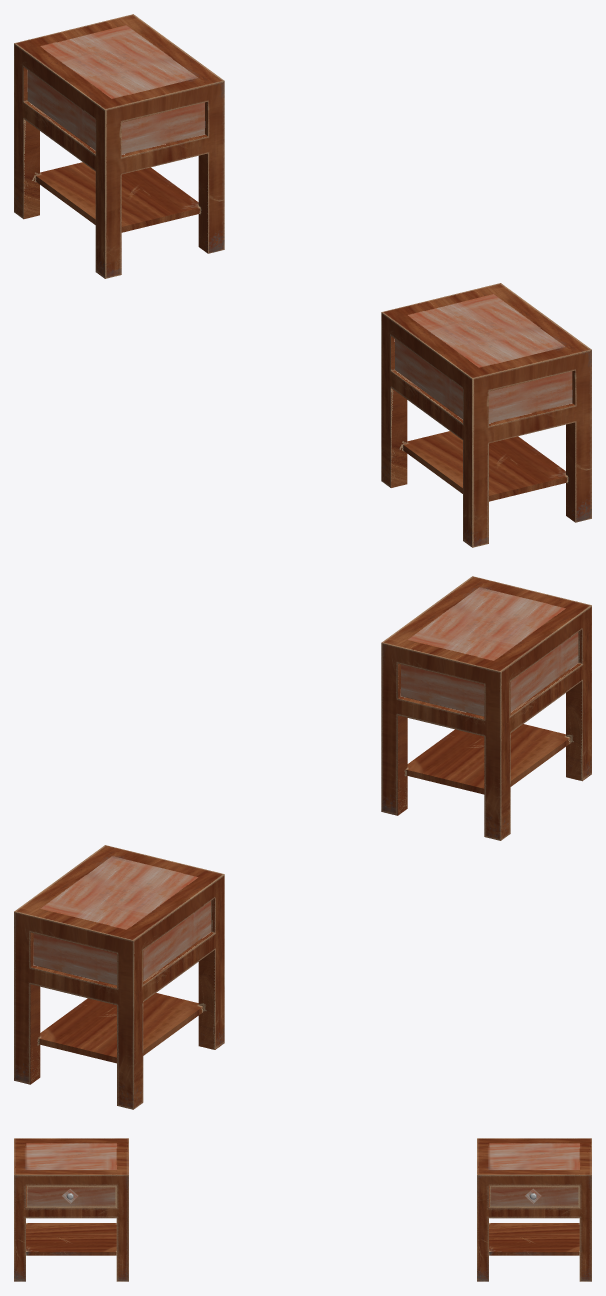
Rendered from besidetable.glb.
The picture shows the model from 3 angles, top to bottom: view 1: azimuth 30°, elevation 25°; view 2: azimuth 150°, elevation 25°; view 3: azimuth 270°, elevation 25°; orthographic projection. The views are drawn at different scales.
Parts seen in each view (by area): view 1: BedsideEndtable.001, BedsideEndtable; view 2: BedsideEndtable.001, BedsideEndtable; view 3: BedsideEndtable, BedsideEndtable.001, BedTableDrawer, BedTableDrawer.001.
Boxes of the visible parts, <box> form: BedsideEndtable.001: <box>14,14,224,278</box>; BedsideEndtable: <box>381,283,591,547</box>; BedsideEndtable.001: <box>14,845,224,1109</box>; BedsideEndtable: <box>381,576,591,840</box>; BedsideEndtable: <box>14,1138,128,1281</box>; BedsideEndtable.001: <box>477,1138,591,1281</box>; BedTableDrawer: <box>26,1185,116,1207</box>; BedTableDrawer.001: <box>489,1185,579,1207</box>.
Size of the model in its own units: 4.31 by 5.58 by 27.44.
4 materials, 4 textured.
